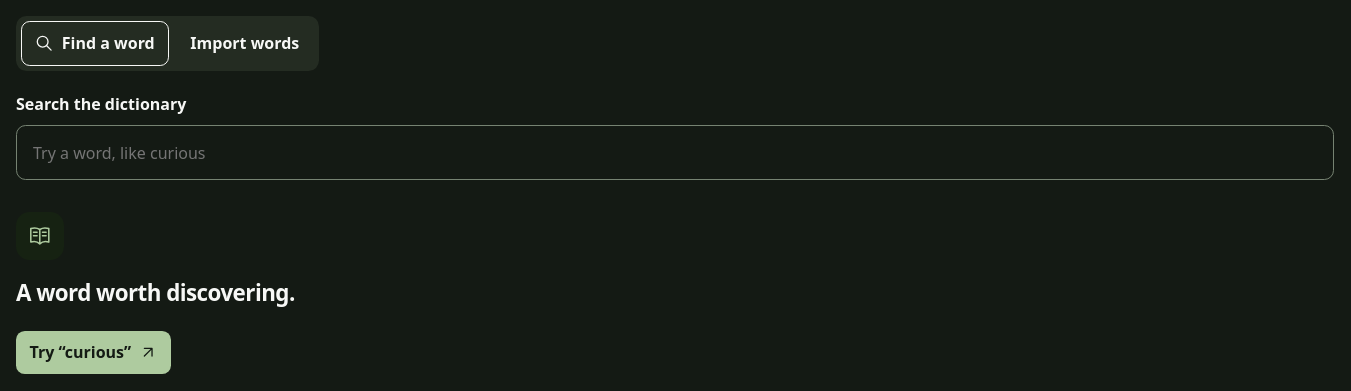
Test: starts a real dictionary lookup from the empty-state example
Expected: the heading "A word worth discovering." is shown, [16,280,336,307]
What coordinates should you click on to do the following:
click the button "Try “curious”"
I would click on:
 (94, 352)
Its box is [16,331,171,374].
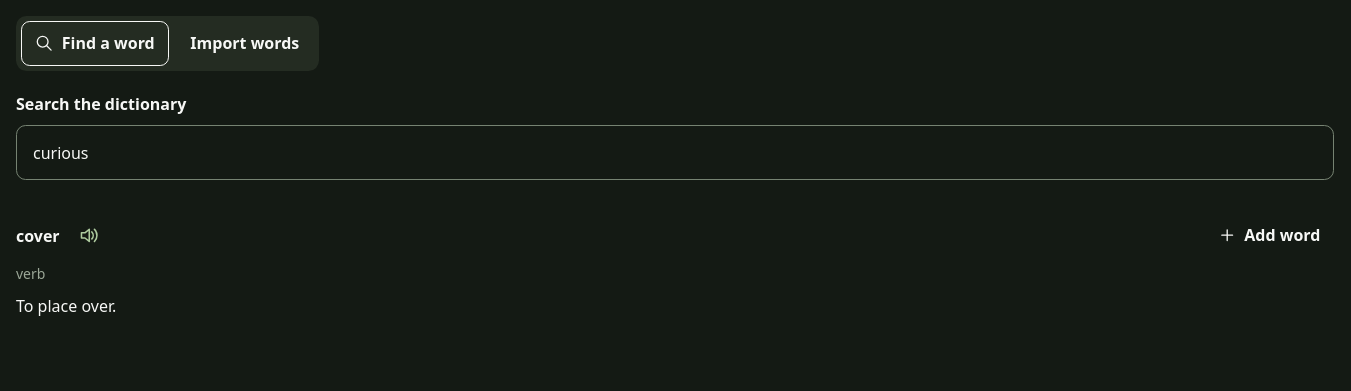
Expected: the search field labelled "Search the dictionary" holds "curious", [16,125,1334,180]
